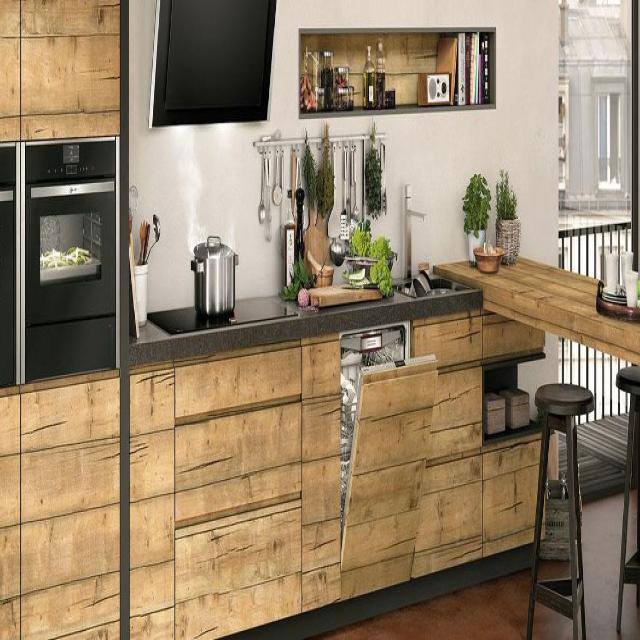dishwasher: (338, 314, 439, 581)
